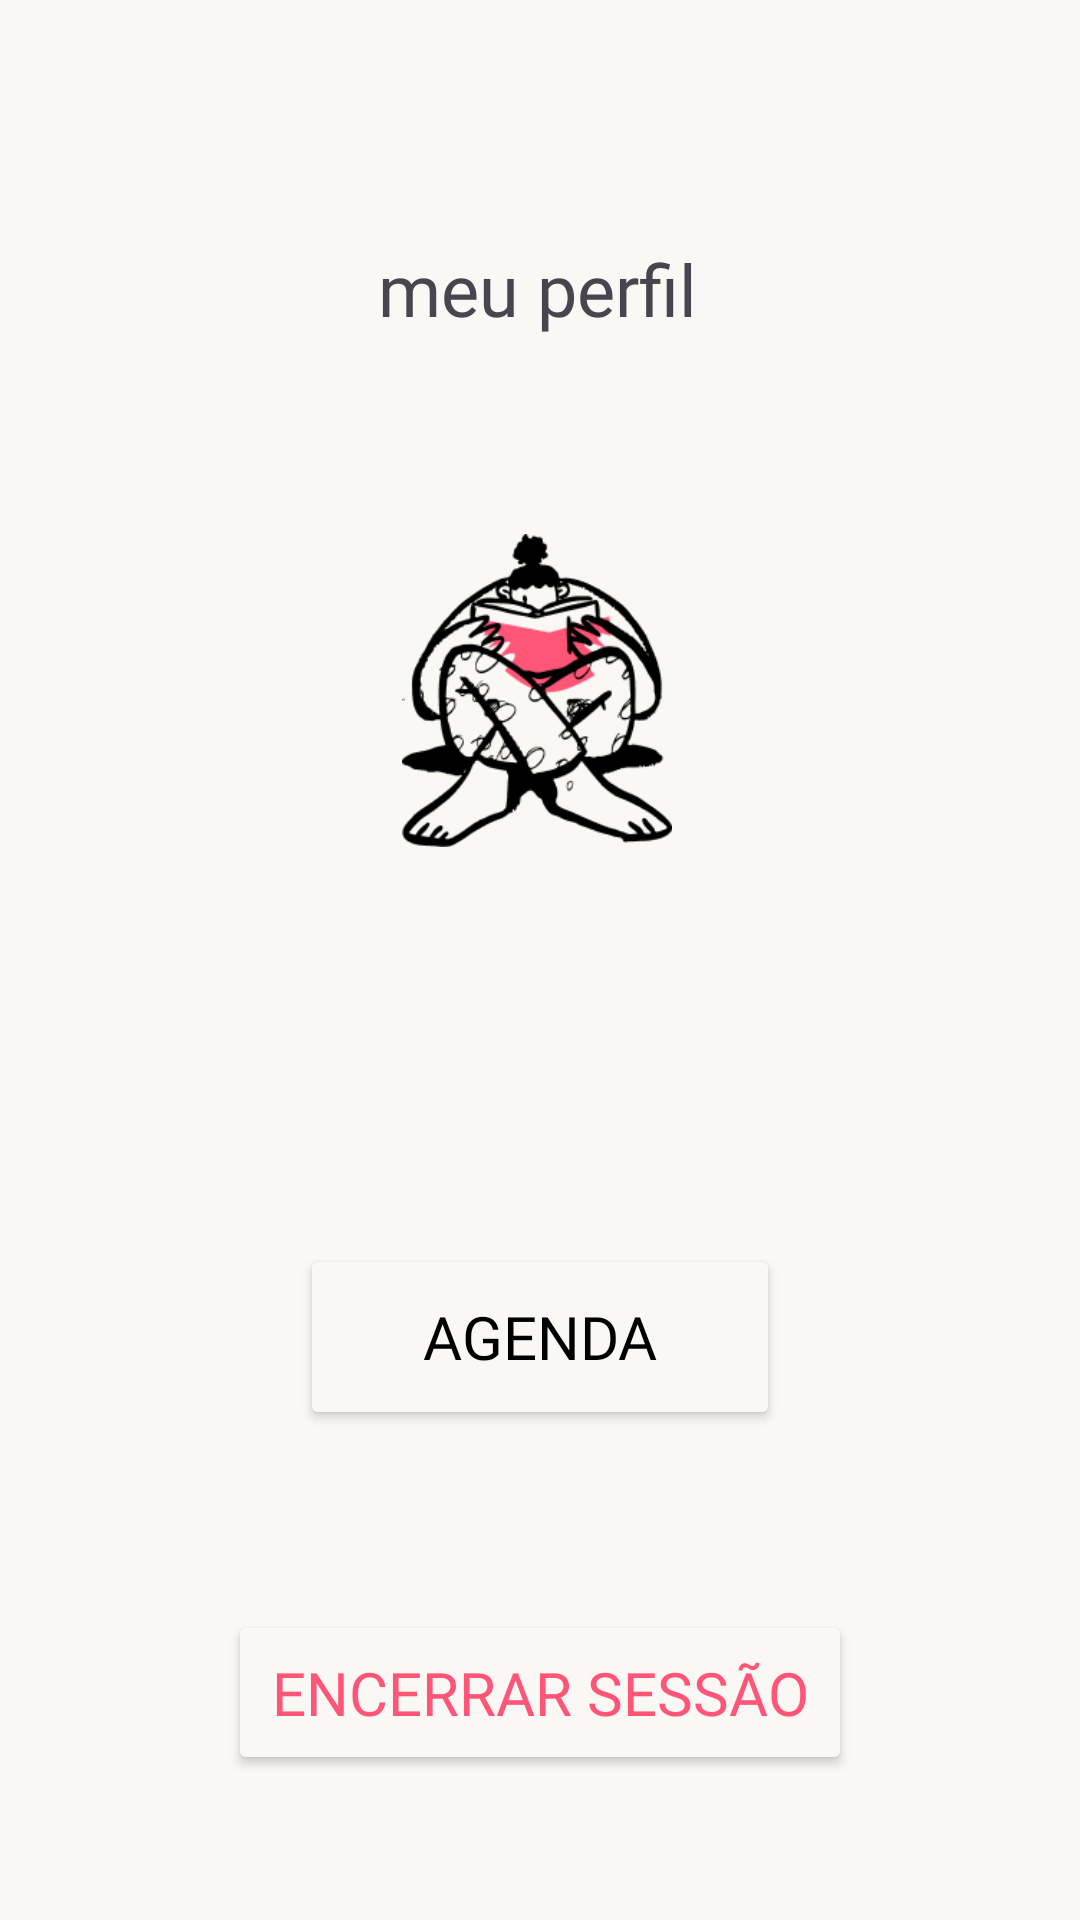

Screen size 1080×1920. Icon name, then its box in pixels as (x1, y1, x2, y2):
reading: (402, 534, 672, 847)
